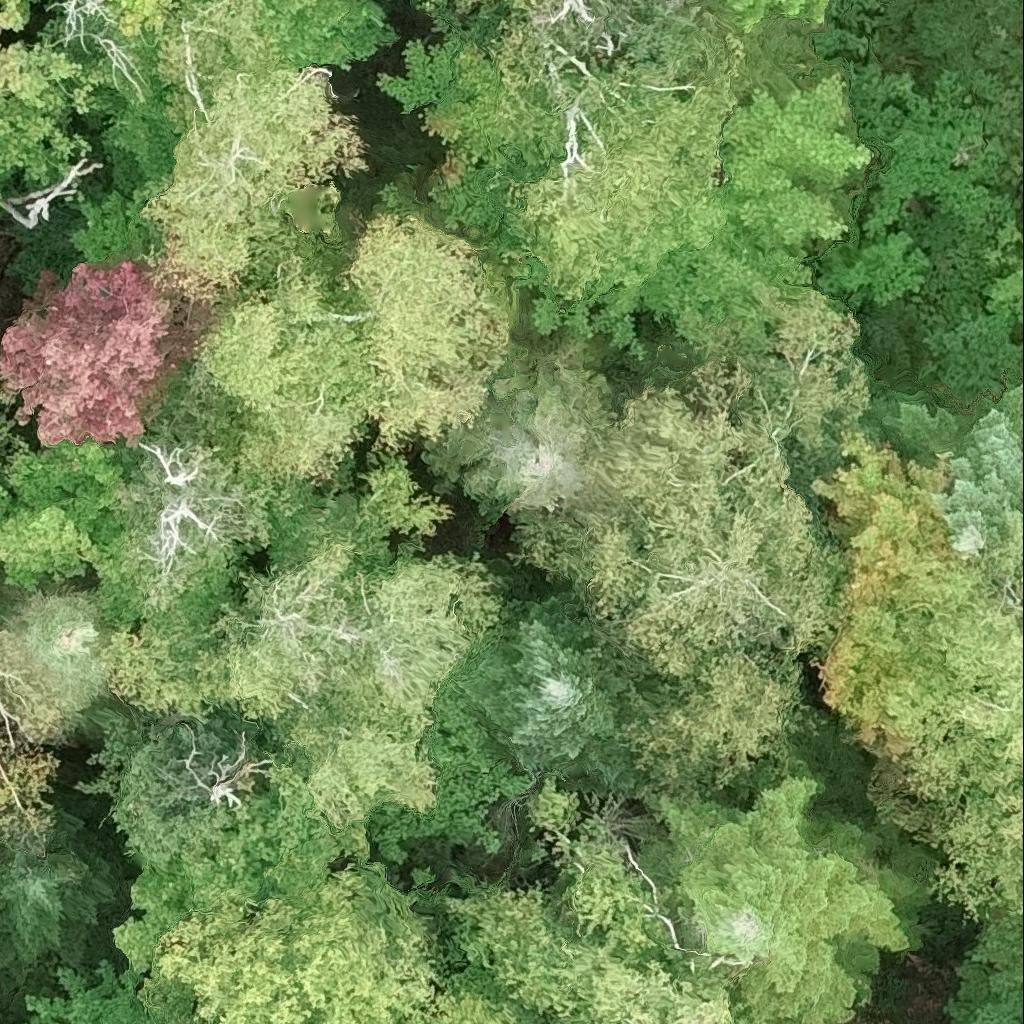crown: (510, 285, 869, 807), (104, 472, 508, 841), (187, 209, 525, 501), (597, 64, 922, 351), (499, 0, 752, 336), (446, 776, 762, 1023), (139, 0, 367, 301), (858, 511, 1023, 921), (139, 855, 521, 1023), (663, 778, 923, 1023), (809, 432, 994, 764), (40, 0, 207, 273), (0, 257, 219, 449), (423, 360, 620, 517), (461, 597, 631, 772), (883, 386, 1023, 555), (0, 0, 109, 185), (0, 627, 86, 856), (0, 438, 126, 587), (0, 840, 116, 985), (12, 590, 112, 711), (136, 444, 217, 572), (259, 0, 393, 73), (944, 912, 1023, 1023), (0, 159, 107, 227), (722, 0, 825, 26), (0, 471, 4, 490)
